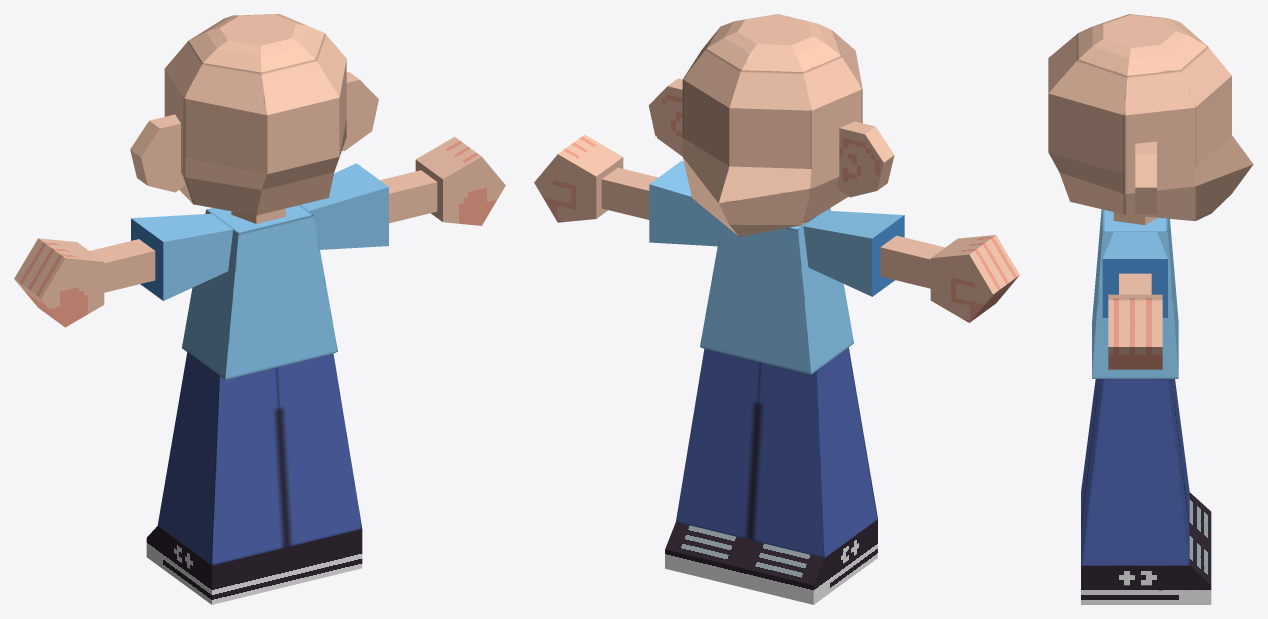
The model's file is enemy_generic.fbx.
3 renders of one model, left to right at view 1: azimuth 30°, elevation 25°; view 2: azimuth 150°, elevation 25°; view 3: azimuth 270°, elevation 25°, orthographic.
Visible parts, largest first — view 1: head, leg_left, torso, leg_right, arm_left, hand_left, foot_left, arm_right, hand_right, ear_left, foot_right, forearm_left (+2 smaller); view 2: head, leg_left, torso, leg_right, foot_left, arm_left, hand_left, hand_right, arm_right, foot_right, ear_left, forearm_left (+2 smaller); view 3: head, leg_right, foot_right, torso, hand_right, arm_right, ear_right, leg_left, foot_left, forearm_right, neck.
Part boxes in pixels (bbox=[...]): head: bbox=[164, 14, 346, 215]; leg_left: bbox=[157, 352, 286, 564]; torso: bbox=[182, 205, 337, 379]; leg_right: bbox=[276, 353, 361, 546]; arm_left: bbox=[131, 213, 232, 300]; hand_left: bbox=[14, 238, 104, 327]; foot_left: bbox=[146, 526, 286, 604]; arm_right: bbox=[300, 163, 388, 249]; hand_right: bbox=[415, 136, 505, 225]; ear_left: bbox=[130, 114, 184, 192]; foot_right: bbox=[287, 528, 362, 586]; forearm_left: bbox=[90, 239, 155, 292]; head: bbox=[682, 14, 862, 236]; leg_left: bbox=[750, 347, 877, 557]; torso: bbox=[700, 208, 853, 374]; leg_right: bbox=[676, 348, 760, 539]; foot_left: bbox=[739, 519, 877, 604]; arm_left: bbox=[803, 210, 904, 296]; hand_left: bbox=[930, 235, 1019, 322]; hand_right: bbox=[534, 134, 623, 222]; arm_right: bbox=[649, 160, 721, 246]; foot_right: bbox=[665, 521, 750, 586]; ear_left: bbox=[836, 121, 894, 197]; forearm_left: bbox=[880, 235, 944, 288]; head: bbox=[1048, 14, 1253, 221]; leg_right: bbox=[1081, 379, 1189, 565]; foot_right: bbox=[1081, 529, 1211, 604]; torso: bbox=[1092, 209, 1178, 378]; hand_right: bbox=[1108, 294, 1162, 369]; arm_right: bbox=[1102, 232, 1167, 317]; ear_right: bbox=[1135, 141, 1156, 214]; leg_left: bbox=[1081, 379, 1189, 527]; foot_left: bbox=[1189, 492, 1211, 547]; forearm_right: bbox=[1119, 273, 1151, 294]; neck: bbox=[1113, 212, 1157, 224].
Size of the model in its own units: 154 by 170 by 59.
Materials: 10 (10 with a texture image).
